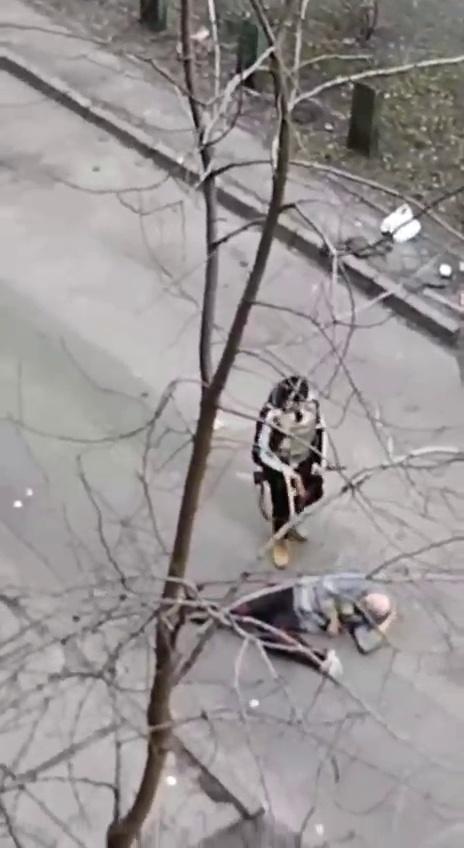person: (186, 578, 396, 678), (254, 374, 329, 568)
